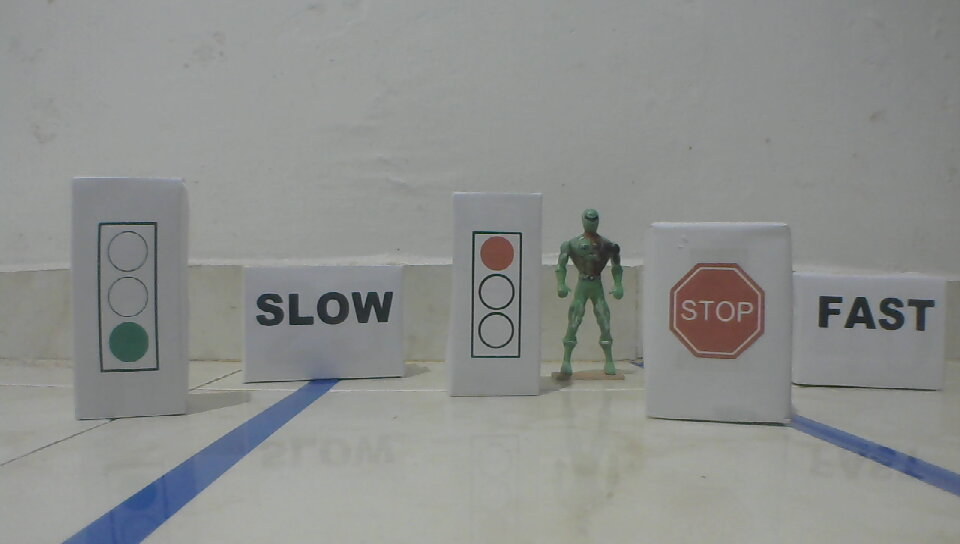Fast: (817, 294, 934, 332)
Green Traffic Light: (94, 219, 163, 374)
Person: (554, 206, 628, 377)
Red Traffic Light: (468, 228, 524, 362)
Slow: (252, 291, 395, 329)
Stop Sign: (667, 260, 766, 361)
